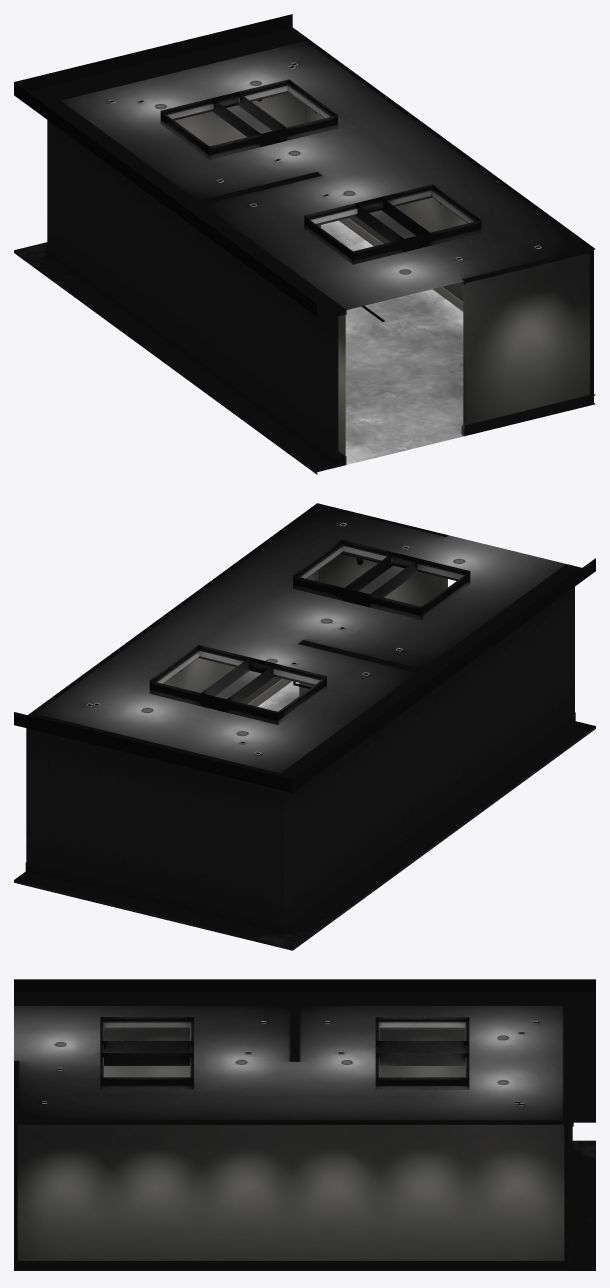
Rendered from Room_4.glb.
3 renders of one model, top to bottom at view 1: azimuth 30°, elevation 25°; view 2: azimuth 150°, elevation 25°; view 3: azimuth 270°, elevation 25°, orthographic. The views are drawn at different scales.
Visible parts, largest first — view 1: room_4.001; view 2: room_4.001; view 3: room_4.001.
Part boxes in pixels (box(x1,y1,x2,y2)): room_4.001: box(14, 14, 595, 474); room_4.001: box(14, 503, 595, 950); room_4.001: box(14, 979, 595, 1270).
Size of the model in its own units: 5.66 by 3.32 by 10.67.
3 materials, 3 textured.
